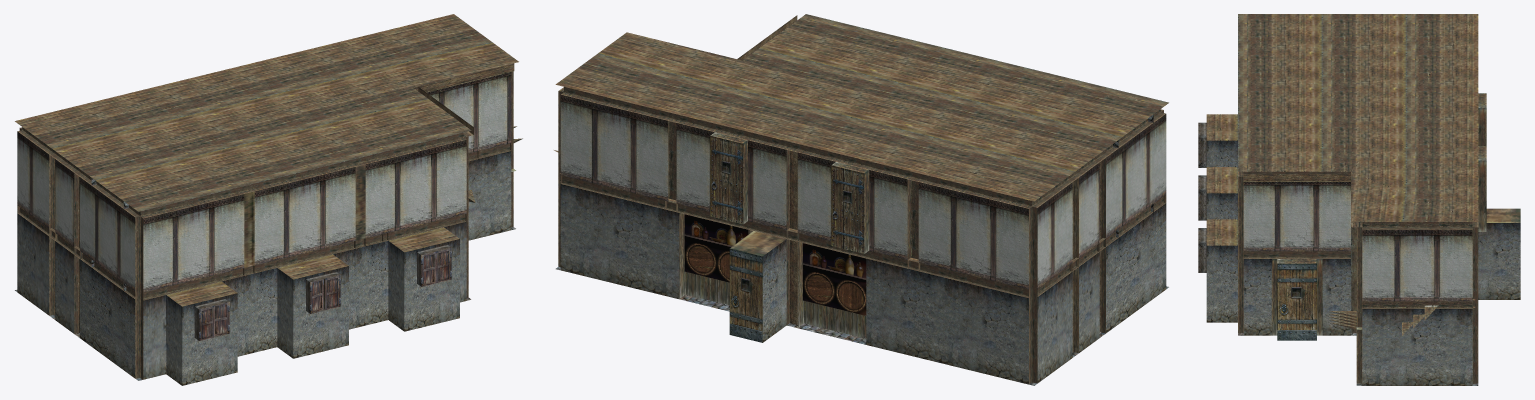
The picture shows the model from 3 angles, left to right: view 1: azimuth 30°, elevation 25°; view 2: azimuth 150°, elevation 25°; view 3: azimuth 270°, elevation 25°; orthographic projection. The views are drawn at different scales.
Visible parts, largest first — view 1: TN3_H_IN-col; view 2: TN3_H_IN-col; view 3: TN3_H_IN-col.
Boxes of the visible parts, x1=… form: TN3_H_IN-col: x1=15, y1=14, x2=522, y2=385; TN3_H_IN-col: x1=554, y1=14, x2=1168, y2=385; TN3_H_IN-col: x1=1198, y1=14, x2=1520, y2=385.
Bounding box in the file's own units: 18.6 × 6.41 × 11.4.
22 materials, 22 textured.
